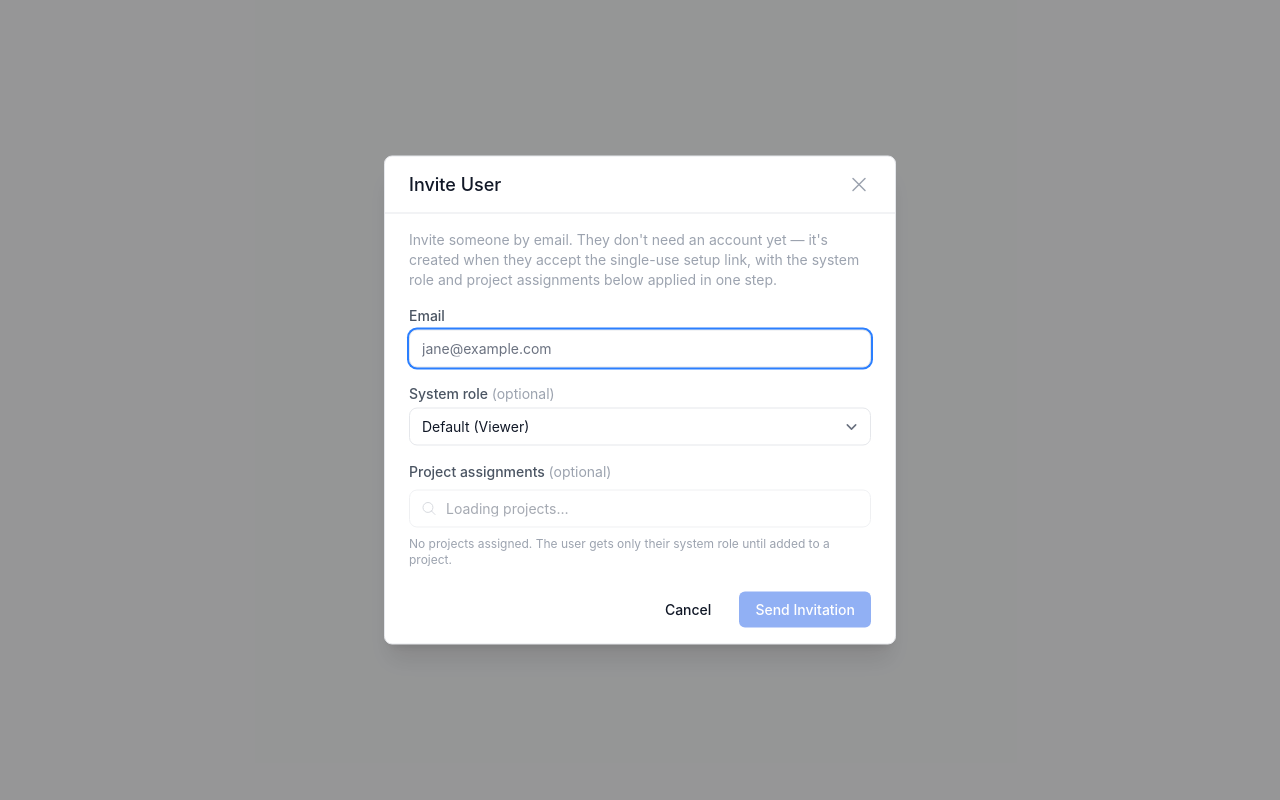
GlobalInviteUserModal › surfaces a delivery error when the link could not be sent
The width and height of the screenshot is (1280, 800).
Type "e@x.io" into the field with placeholder "jane@example.com" at (640, 348), box x1=409 y1=330 x2=871 y2=368
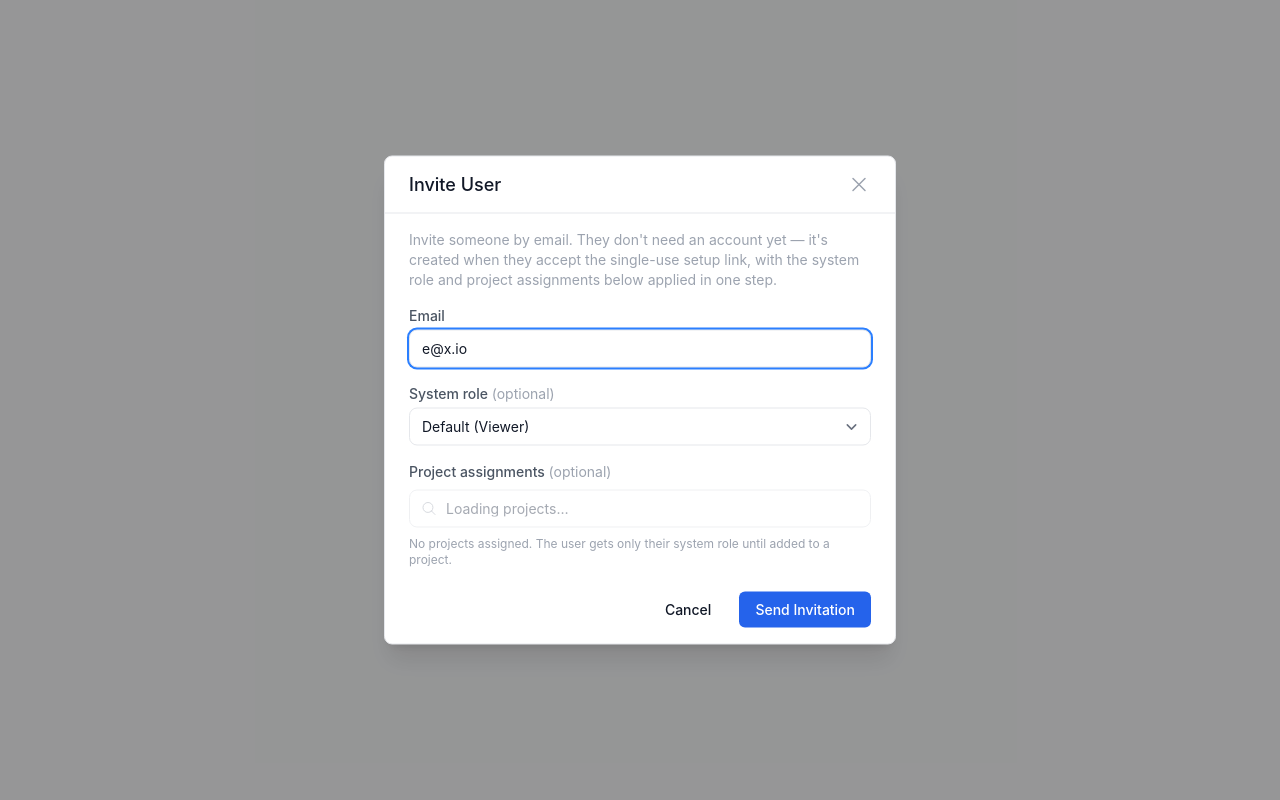
Click the button "Send Invitation" at (805, 610), box x1=739 y1=592 x2=871 y2=628
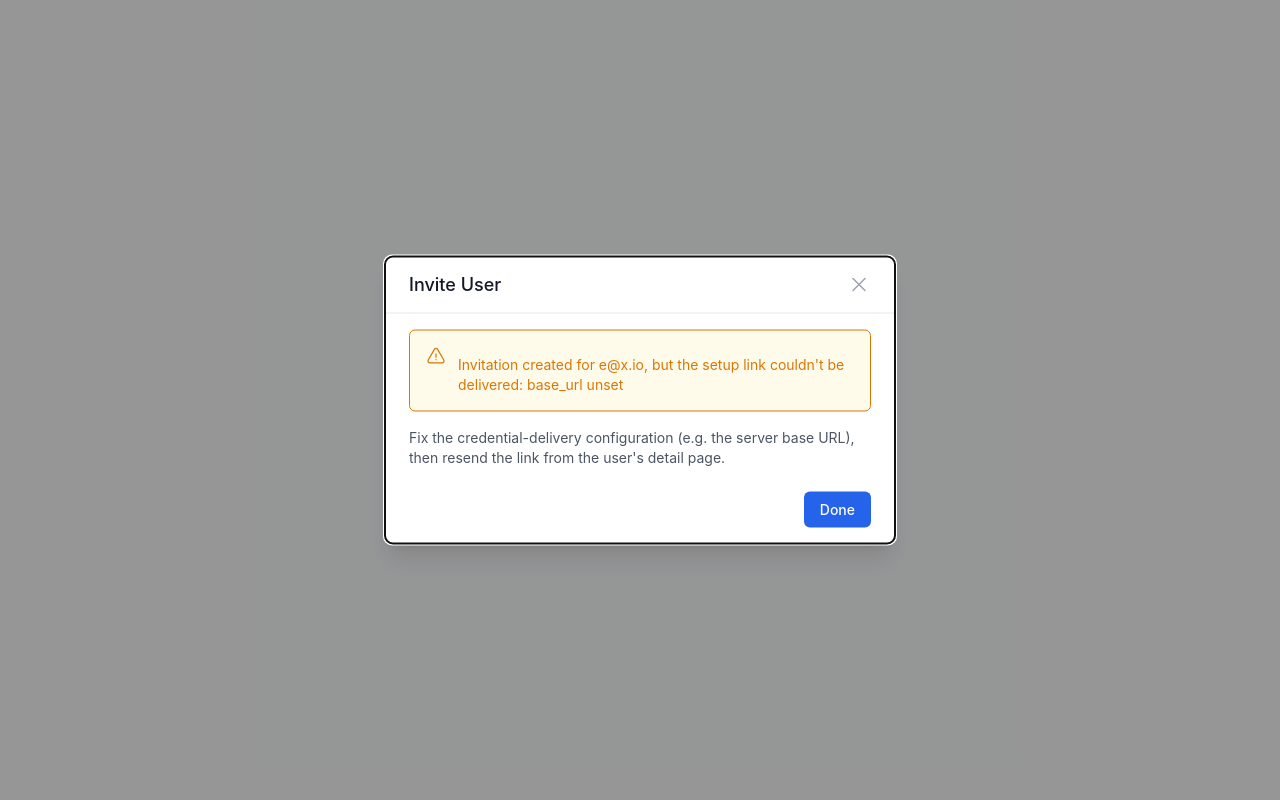
Result: the text "base_url unset" is shown at x1=458 y1=356 x2=844 y2=392
